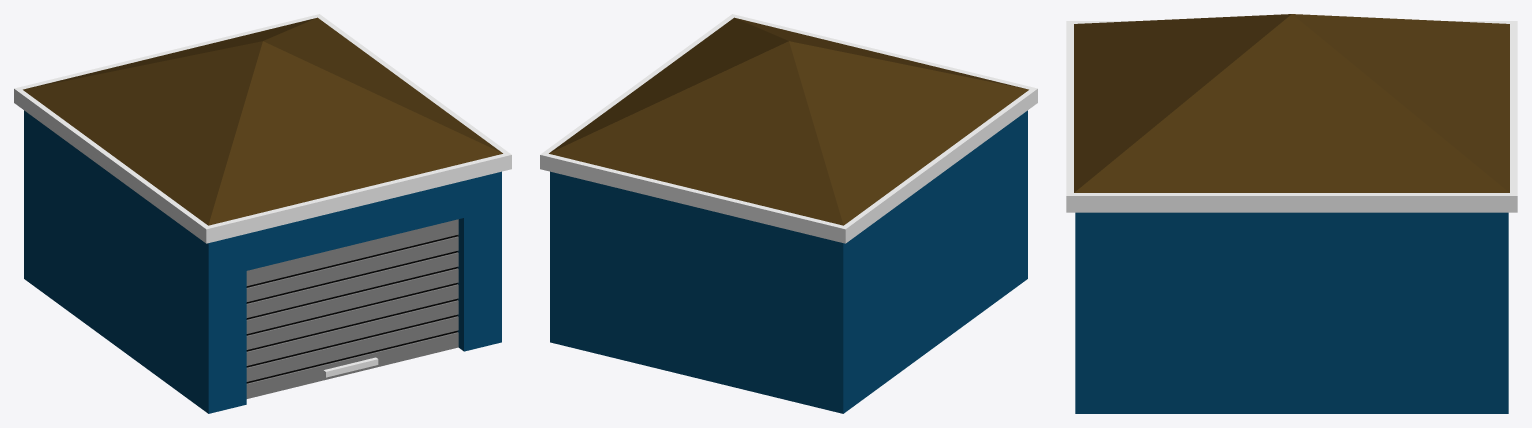
File: Garage-02.fbx
3 renders of one model, left to right at view 1: azimuth 30°, elevation 25°; view 2: azimuth 150°, elevation 25°; view 3: azimuth 270°, elevation 25°, orthographic. The views are drawn at different scales.
Parts seen in each view (by area): view 1: Garage-02; view 2: Garage-02; view 3: Garage-02.
Boxes of the visible parts, x1,y1,x2,y2 form: Garage-02: [14, 14, 511, 413]; Garage-02: [540, 14, 1037, 413]; Garage-02: [1066, 14, 1517, 413].
Size of what is drawn, in the model's own units: 5.26 by 4.43 by 5.73.
